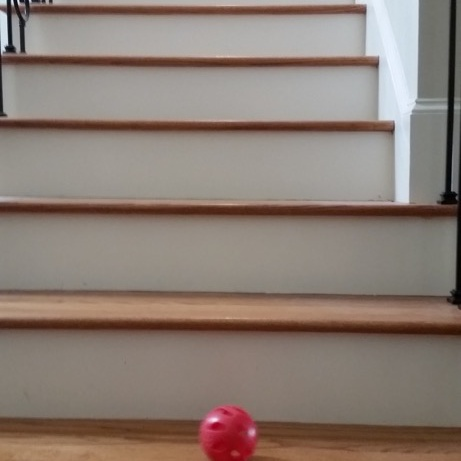redball: (194, 401, 262, 461)
